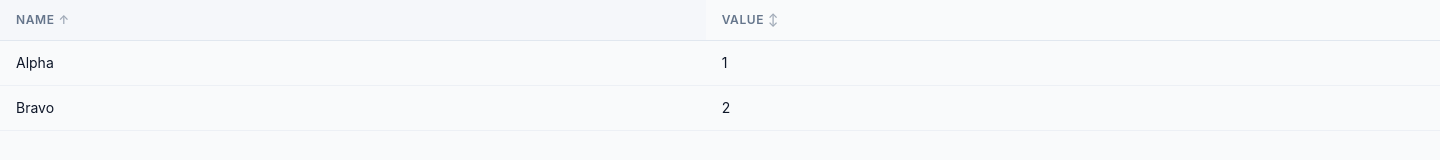
Test case: GlobalTableSort › sorts only after a user activates a sortable header
Click the button "Name ↑" at (35, 20), box [0,0,706,40]
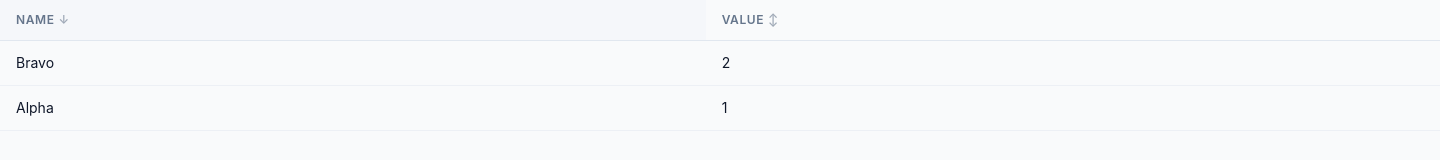
Check: the table with class "data-table" has attribute data-cf-sort-state="0:desc"
